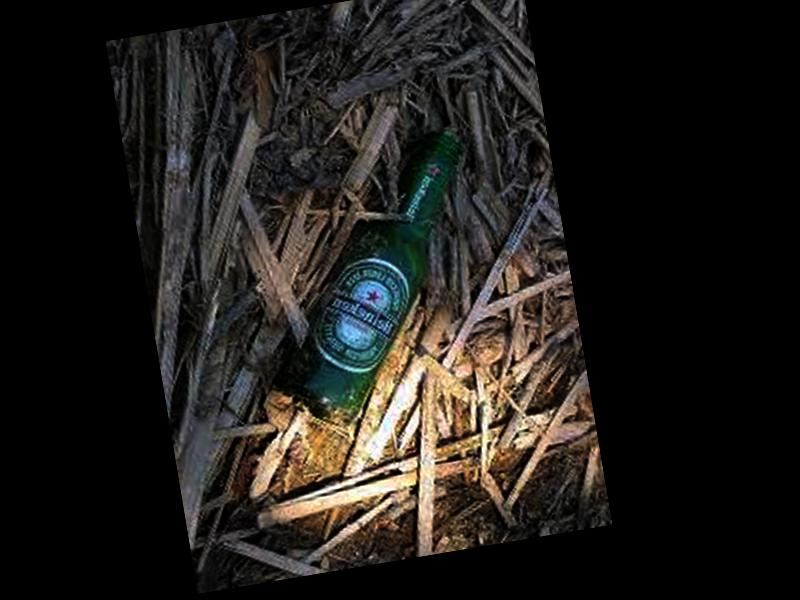Beer: (239, 125, 500, 434)
